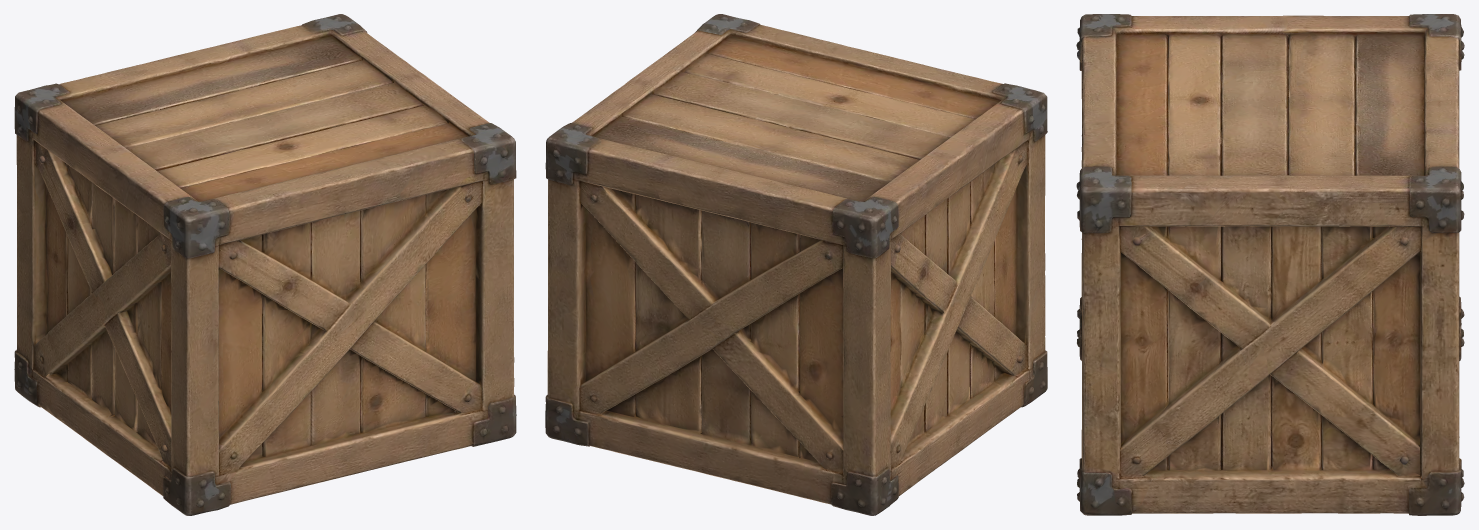
File: crate.glb
The picture shows the model from 3 angles, left to right: view 1: azimuth 30°, elevation 25°; view 2: azimuth 150°, elevation 25°; view 3: azimuth 270°, elevation 25°; orthographic projection. The views are drawn at different scales.
Visible parts, largest first — view 1: tripo_node_6bb3cd77-2008-4abe-96fb-486569e49719; view 2: tripo_node_6bb3cd77-2008-4abe-96fb-486569e49719; view 3: tripo_node_6bb3cd77-2008-4abe-96fb-486569e49719.
Part boxes in pixels (x1,y1,x2,y2): tripo_node_6bb3cd77-2008-4abe-96fb-486569e49719: (14,14,516,515); tripo_node_6bb3cd77-2008-4abe-96fb-486569e49719: (545,14,1047,515); tripo_node_6bb3cd77-2008-4abe-96fb-486569e49719: (1076,14,1464,515).
Size of the model in its own units: 0.6948 by 0.6 by 0.6329.
1 material, 1 textured.
